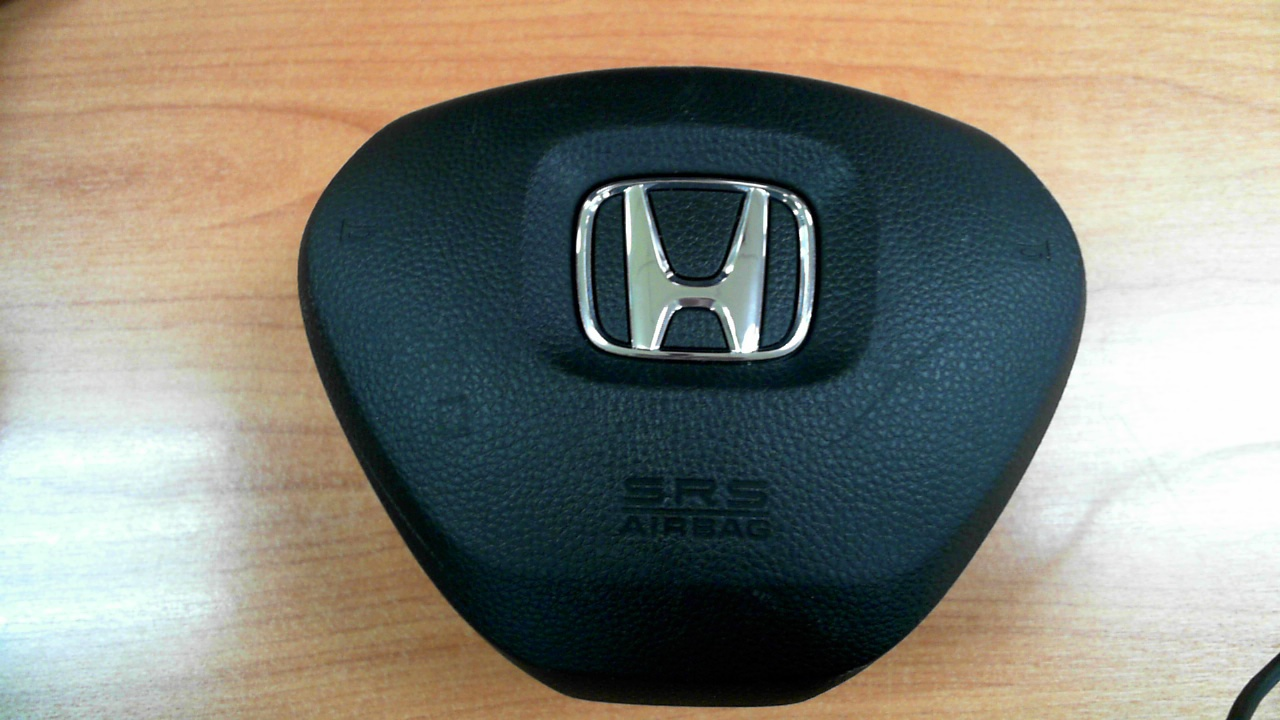Airbag: (295, 65, 1088, 709)
Honda: (575, 179, 817, 362)
